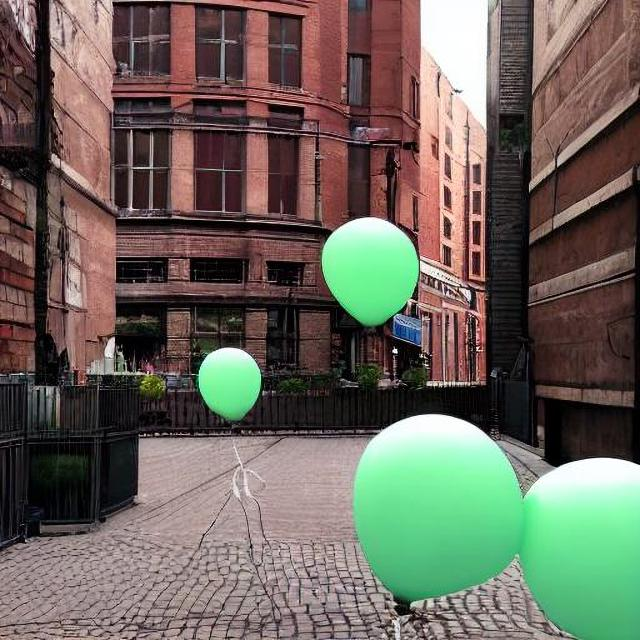balloon: (343, 410, 542, 606), (518, 454, 640, 634), (315, 213, 419, 328), (193, 341, 261, 422)
